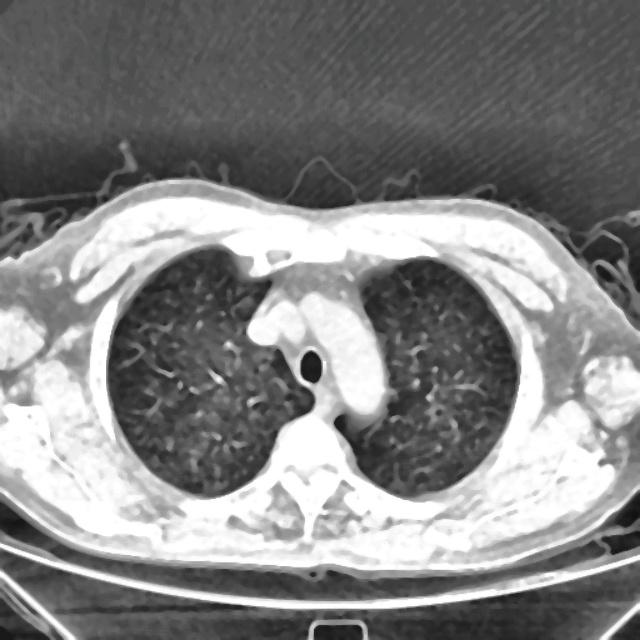covid: (0, 174, 639, 580)
